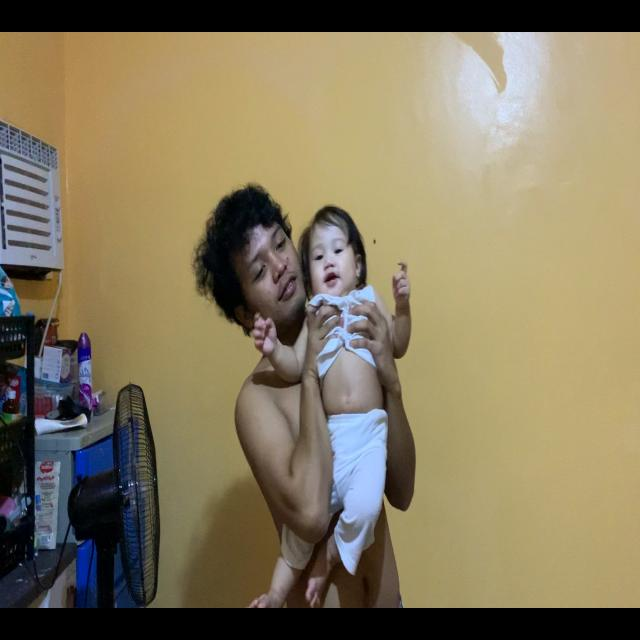adult: (194, 180, 416, 606)
child: (249, 204, 412, 607)
